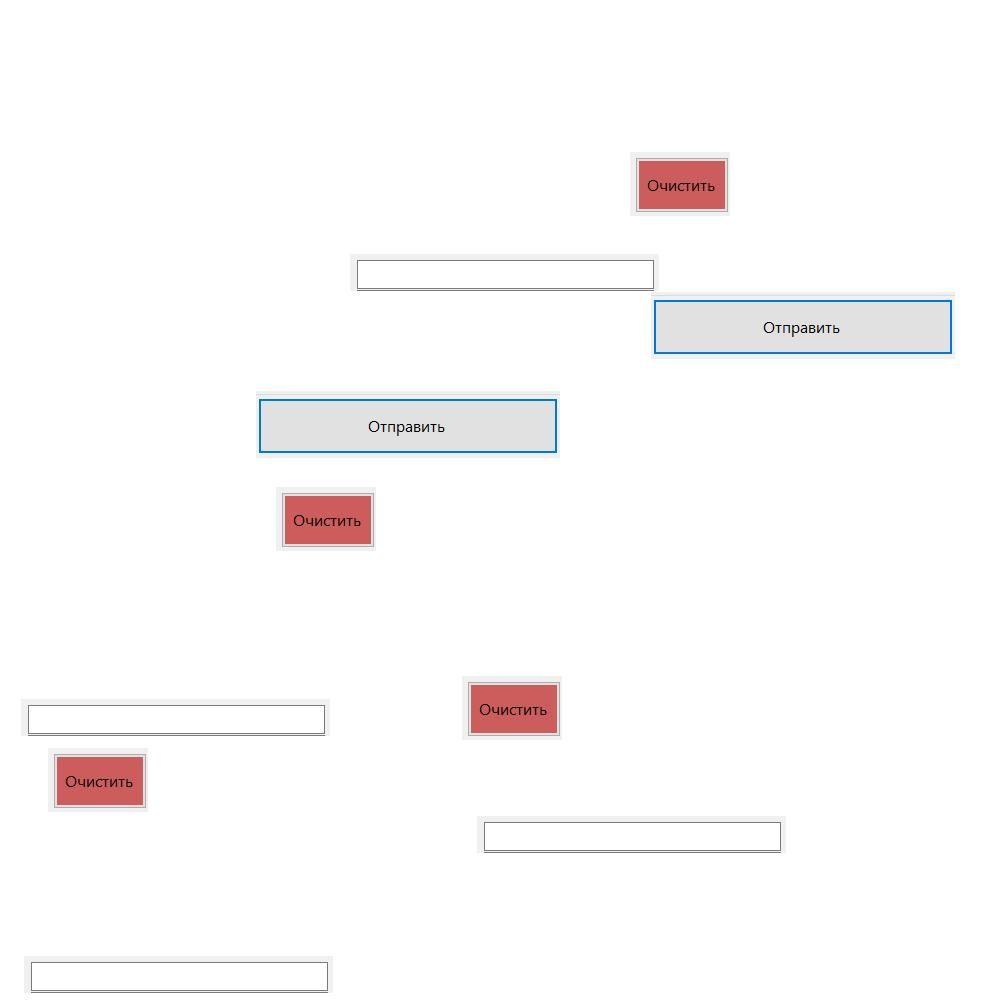Button: (256, 391, 560, 458), (651, 292, 955, 359), (630, 152, 730, 216), (462, 676, 562, 740), (276, 487, 376, 551), (48, 748, 148, 812)
EditText-: (24, 956, 333, 993), (477, 816, 786, 853), (350, 254, 659, 291), (21, 699, 330, 736)
